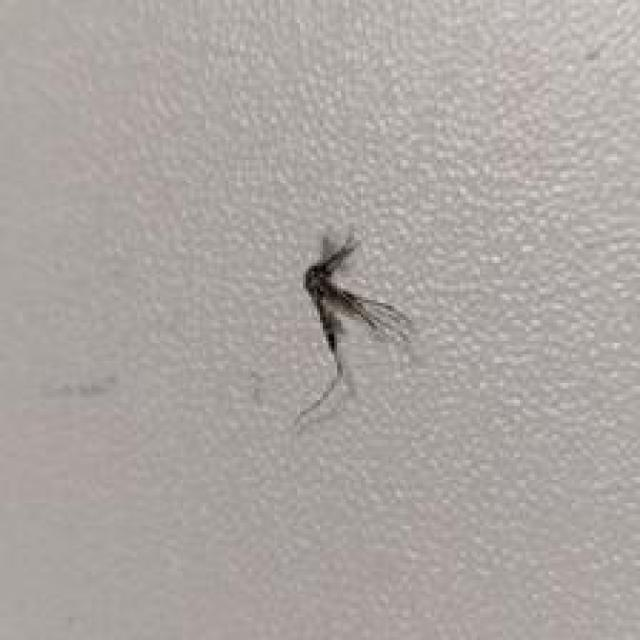Aedes albopictus: (292, 230, 414, 427)
